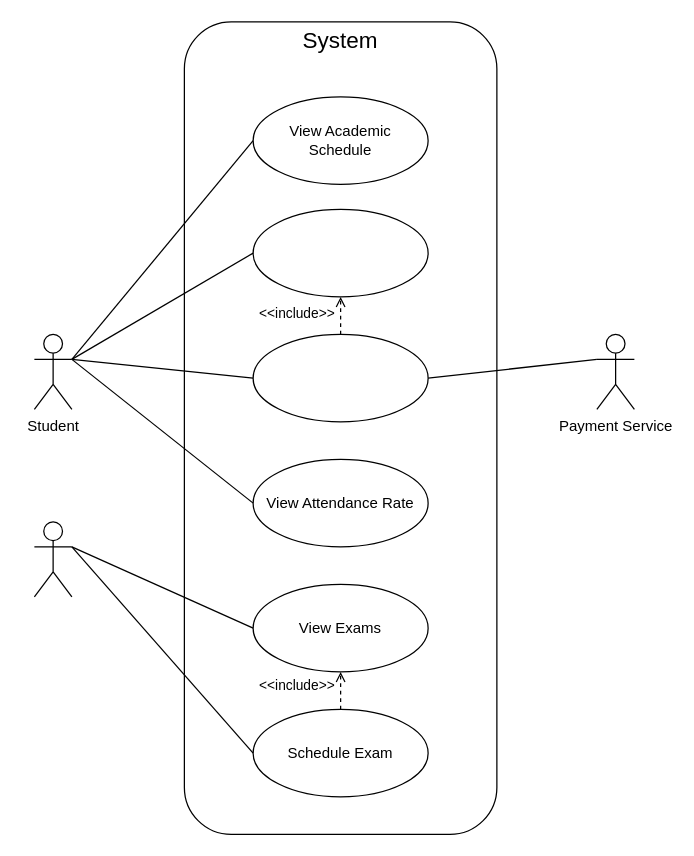
Image size: 694x856. Some labels were removed from this diagram. Here are the shapes that lost their labels. From the top down, the box of each, then its label:
(252, 208, 428, 297): View Tuitions
(252, 333, 428, 422): Pay Tuition
(33, 521, 72, 597): Professor
